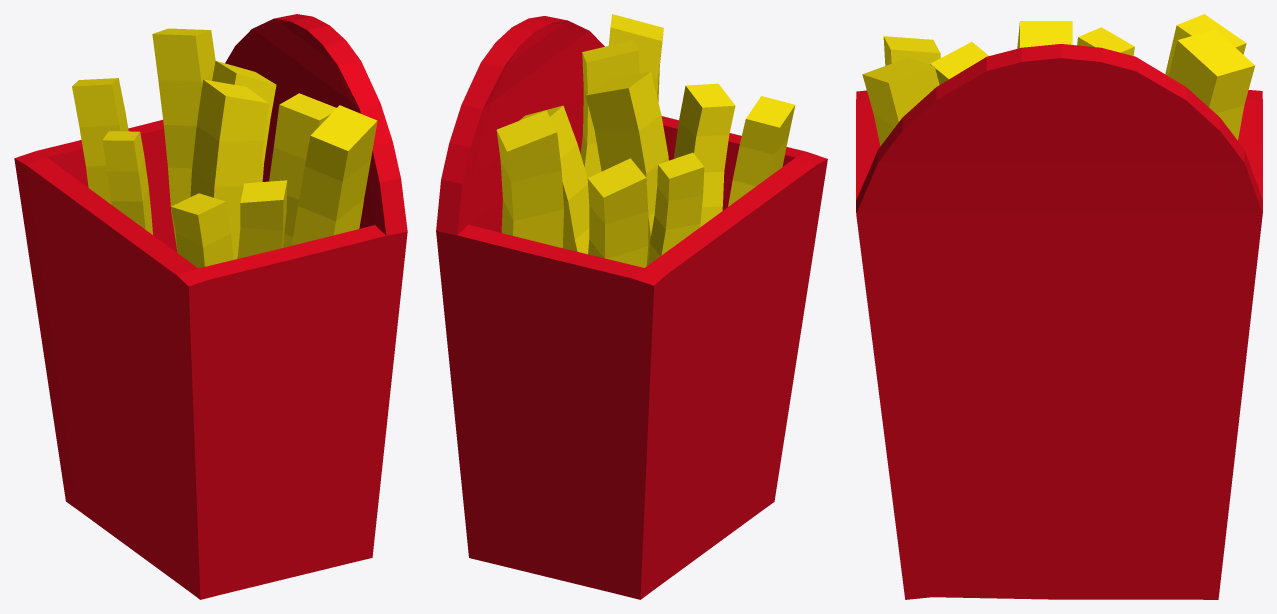
File: fries.fbx
3 renders of one model, left to right at view 1: azimuth 30°, elevation 25°; view 2: azimuth 150°, elevation 25°; view 3: azimuth 270°, elevation 25°, orthographic. The views are drawn at different scales.
Visible parts, largest first — view 1: Cube.005, Cube.008, Cube.003, Cube.002, Cube.007, Cube.004, Cube.010, Cube.011, Cube.009, Cube.001; view 2: Cube.005, Cube.002, Cube.008, Cube.004, Cube.009, Cube.011, Cube.010, Cube.001, Cube.007, Cube.003; view 3: Cube.005, Cube.002, Cube.003, Cube.008, Cube.010, Cube.004, Cube.007, Cube.011.
Part boxes in pixels (<box>): Cube.005: <box>14,14,407,599</box>; Cube.008: <box>190,79,268,259</box>; Cube.003: <box>291,105,377,245</box>; Cube.002: <box>152,28,215,252</box>; Cube.007: <box>269,93,336,247</box>; Cube.004: <box>72,78,128,204</box>; Cube.010: <box>171,193,233,268</box>; Cube.011: <box>102,131,152,234</box>; Cube.009: <box>237,180,287,258</box>; Cube.001: <box>212,61,276,182</box>; Cube.005: <box>436,16,827,599</box>; Cube.002: <box>496,110,563,247</box>; Cube.008: <box>585,71,668,265</box>; Cube.004: <box>587,158,648,267</box>; Cube.009: <box>673,83,735,227</box>; Cube.011: <box>648,152,704,264</box>; Cube.010: <box>728,96,795,206</box>; Cube.001: <box>519,105,589,254</box>; Cube.007: <box>580,40,639,177</box>; Cube.003: <box>608,14,663,101</box>; Cube.005: <box>856,44,1262,599</box>; Cube.002: <box>1168,29,1255,140</box>; Cube.003: <box>862,57,939,145</box>; Cube.008: <box>1017,21,1072,48</box>; Cube.010: <box>883,36,940,65</box>; Cube.004: <box>1165,14,1246,76</box>; Cube.007: <box>930,42,988,84</box>; Cube.011: <box>1077,27,1134,55</box>.
Bounding box in the file's own units: 19.83 × 39.54 × 26.17.
